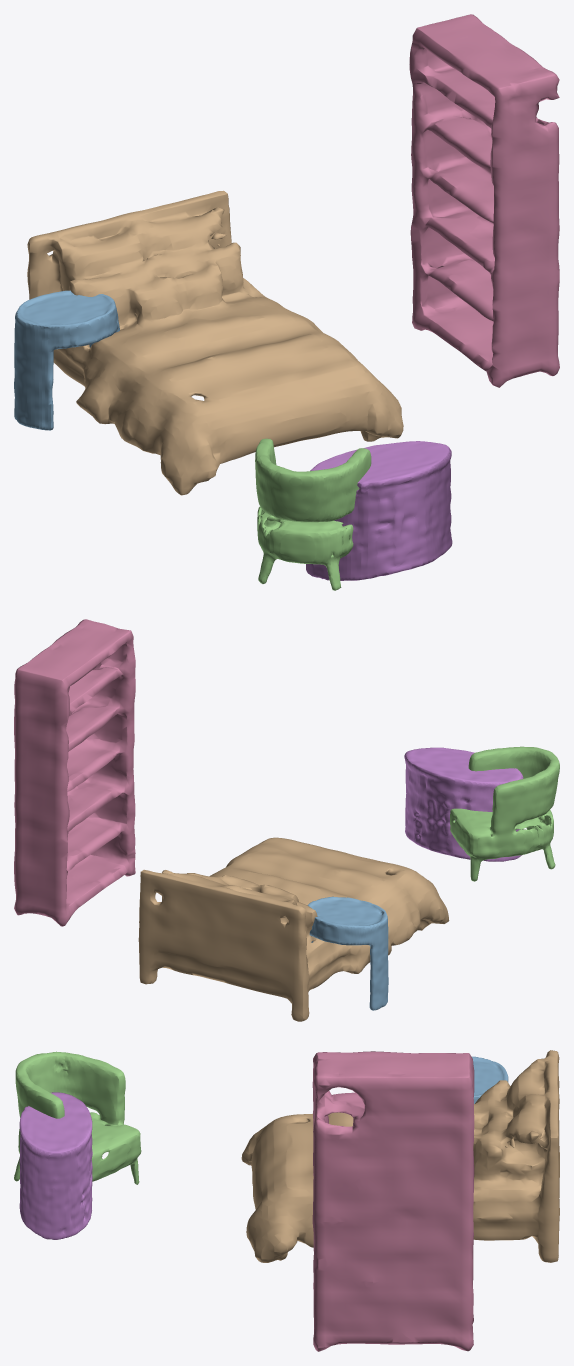
File: SecondBedroom-6482_echoscene.glb
The picture shows the model from 3 angles, top to bottom: view 1: azimuth 30°, elevation 25°; view 2: azimuth 150°, elevation 25°; view 3: azimuth 270°, elevation 25°; orthographic projection. The views are drawn at different scales.
Visible parts, largest first — view 1: world; view 2: world; view 3: world.
Part boxes in pixels (<box>): world: <box>14,14,559,590</box>; world: <box>14,619,559,1021</box>; world: <box>14,1050,559,1351</box>.
Bounding box in the file's own units: 3.46 × 2.19 × 3.92.
